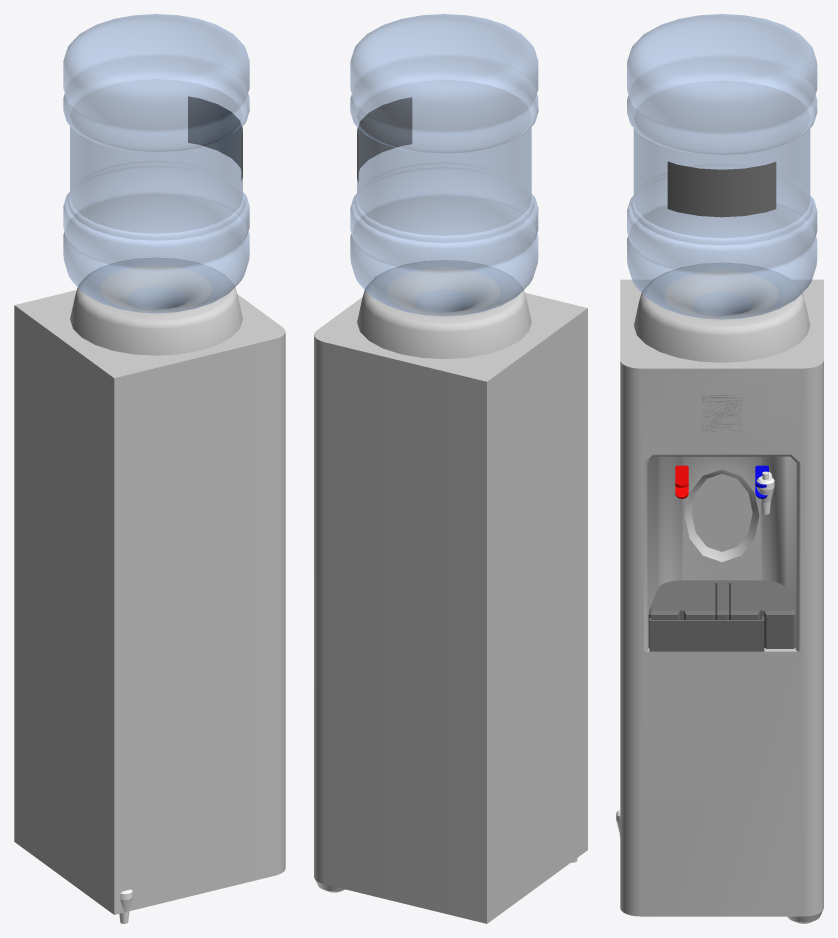
The model's file is WaterDispenser.fbx.
The picture shows the model from 3 angles, left to right: view 1: azimuth 30°, elevation 25°; view 2: azimuth 150°, elevation 25°; view 3: azimuth 270°, elevation 25°; orthographic projection. The views are drawn at different scales.
Parts seen in each view (by area): view 1: Water_dispenser_Box.003; view 2: Water_dispenser_Box.003; view 3: Water_dispenser_Box.003.
Boxes of the visible parts, x1,y1,x2,y2 form: Water_dispenser_Box.003: (14,14,285,923); Water_dispenser_Box.003: (314,14,587,923); Water_dispenser_Box.003: (616,14,823,923).
Size of the model in its own units: 1230 by 5354 by 1205.
